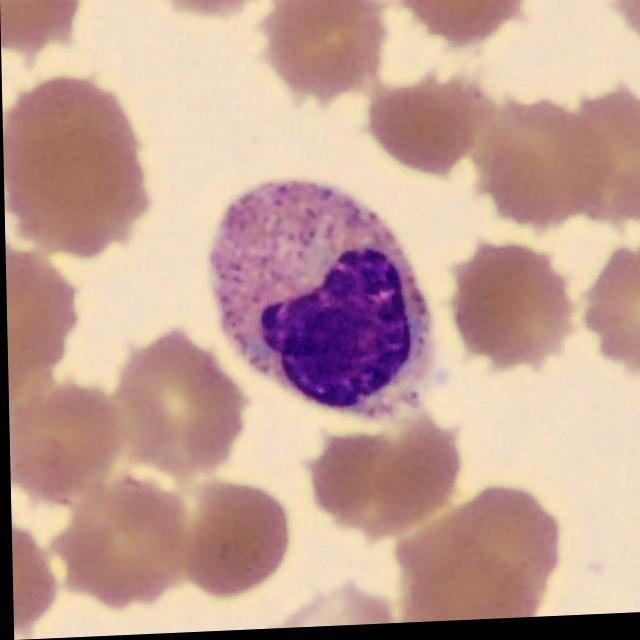Neutrofilo segmentado: (205, 181, 433, 420)
